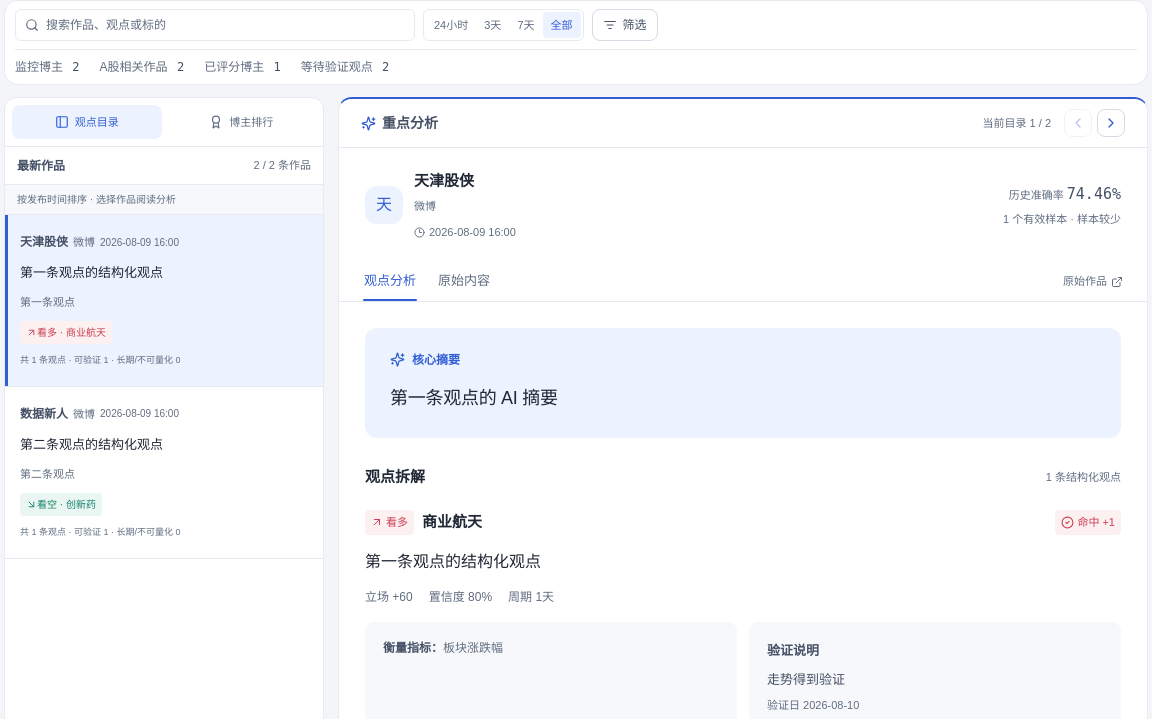
Test: CreatorInsightsView › reuses a cached detail when returning to an already opened work
Click the button that starts with "数据新人": (44, 414) [5, 387, 323, 559]
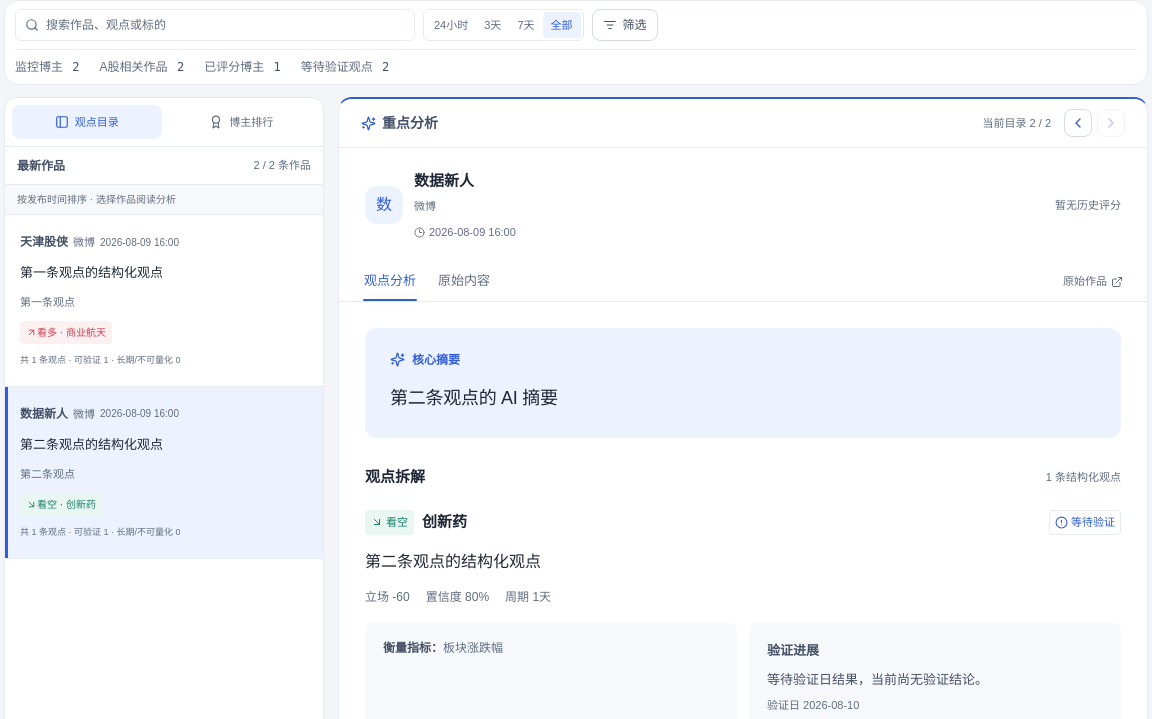
Click the button that starts with "天津股侠": (44, 242) [5, 215, 323, 387]
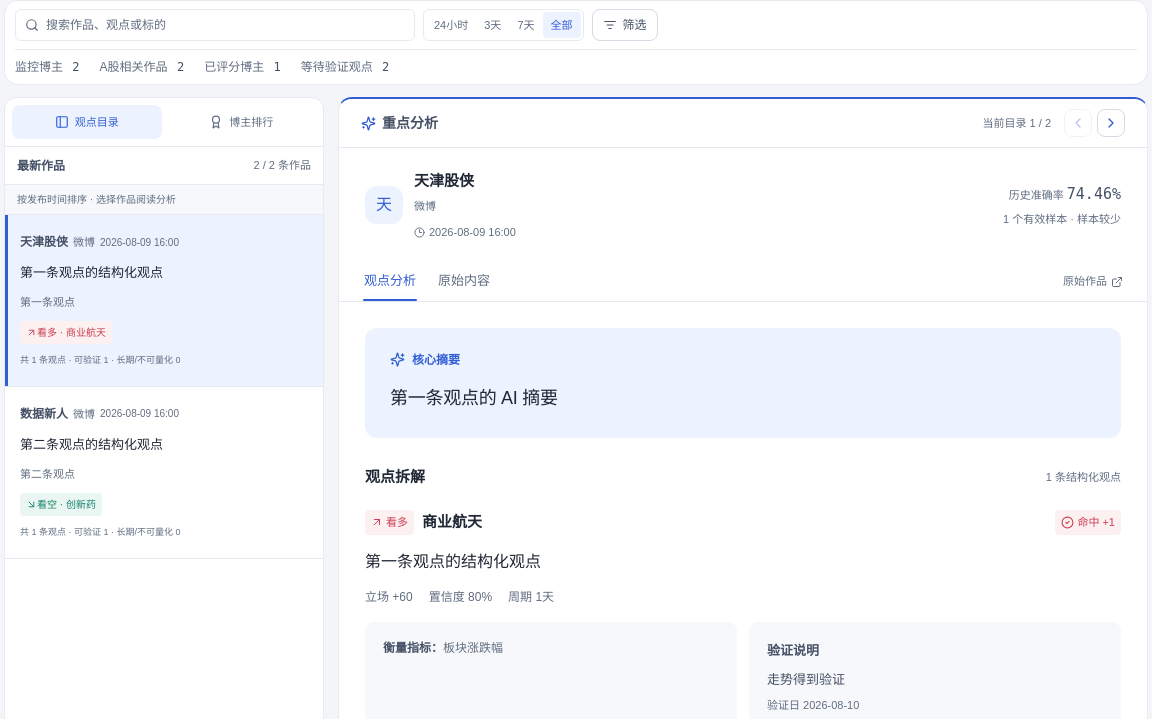
Now the text "第一条观点的 AI 摘要" is shown, box [390, 388, 558, 408]
